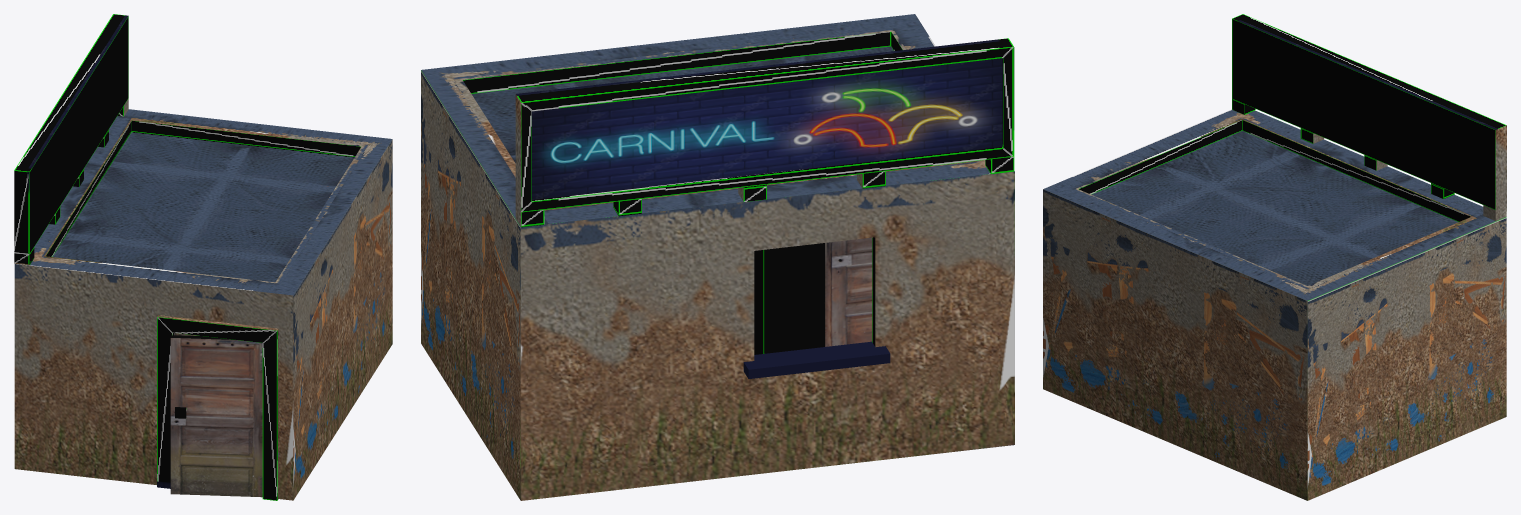
The model's file is assets_cabinaAlumnas.fbx.
3 views of the same model, side by side, from view 1: azimuth 30°, elevation 25°; view 2: azimuth 150°, elevation 25°; view 3: azimuth 270°, elevation 25° (orthographic). The views are drawn at different scales.
Parts seen in each view (by area): view 1: CabinaAlumnas; view 2: CabinaAlumnas; view 3: CabinaAlumnas.
Part boxes in pixels (x1,y1,x2,y2): CabinaAlumnas: [14, 14, 392, 500]; CabinaAlumnas: [421, 14, 1014, 500]; CabinaAlumnas: [1043, 14, 1506, 500].
Bounding box in the file's own units: 302 × 209 × 302.
1 material, 1 textured.
